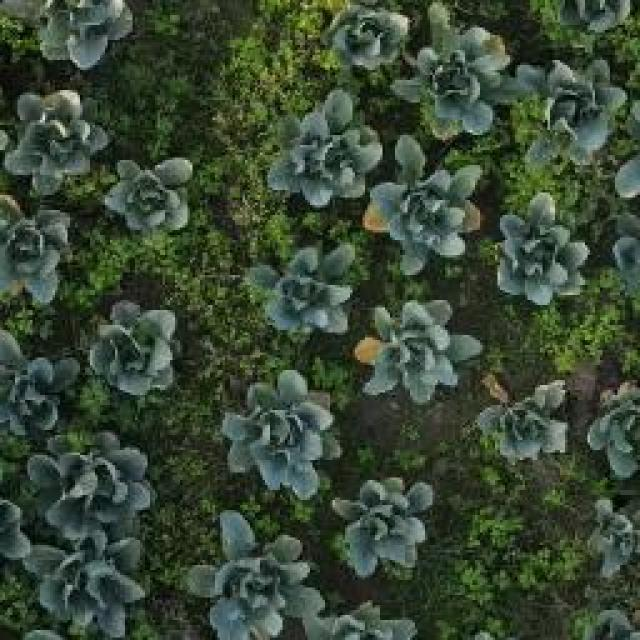cabbage: (182, 506, 320, 640), (369, 138, 487, 278), (260, 88, 386, 200), (18, 537, 152, 640), (27, 434, 156, 540), (514, 55, 627, 171), (220, 370, 330, 488), (400, 25, 510, 143), (358, 301, 483, 402), (494, 190, 594, 309), (332, 474, 438, 581), (1, 88, 111, 186), (245, 240, 353, 338), (93, 300, 186, 395), (0, 331, 76, 439), (477, 379, 573, 463), (0, 197, 68, 305), (102, 156, 194, 232), (32, 0, 132, 68), (325, 0, 407, 69)
